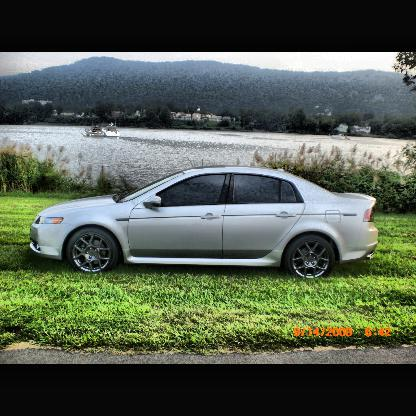Acura TL Type-S 2008: (28, 165, 379, 281)
